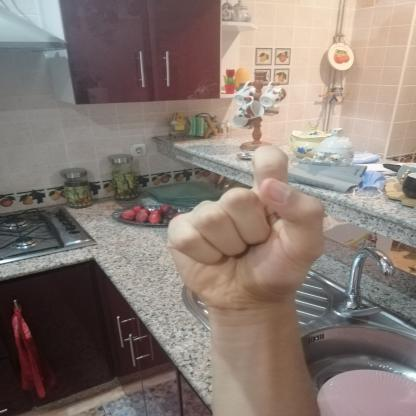FAA: (148, 136, 340, 323)
